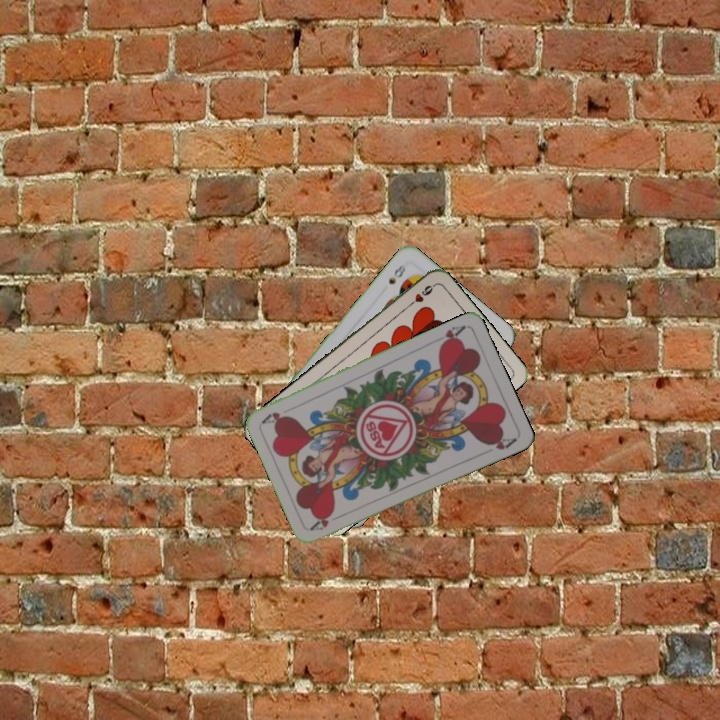H9: (403, 281, 437, 310)
HA: (307, 508, 346, 533), (435, 321, 468, 350)
S8: (384, 261, 408, 287)
